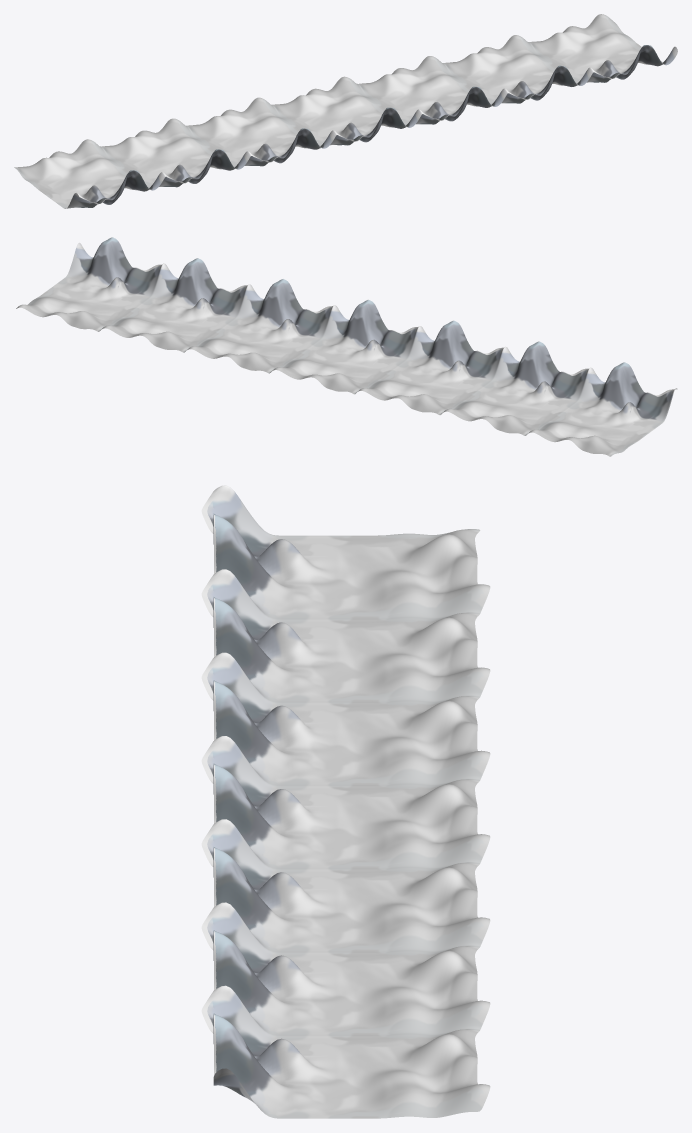
File: terrain.fbx
3 renders of one model, top to bottom at view 1: azimuth 30°, elevation 25°; view 2: azimuth 150°, elevation 25°; view 3: azimuth 270°, elevation 25°, orthographic. The views are drawn at different scales.
Visible parts, largest first — view 1: Terrain; view 2: Terrain; view 3: Terrain.
Boxes of the visible parts, x1,y1,x2,y2 form: Terrain: (14, 14, 677, 208); Terrain: (16, 237, 677, 456); Terrain: (201, 485, 490, 1118).
Bounding box in the file's own units: 79707 × 4780 × 16639.
Materials: 1 (1 with a texture image).
